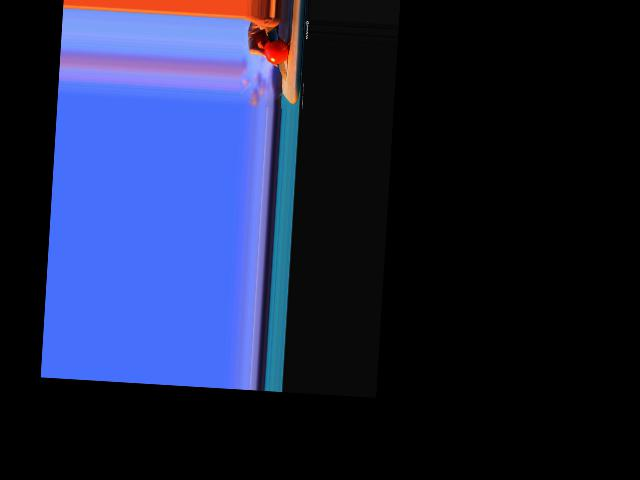tomato: (263, 38, 289, 65)
